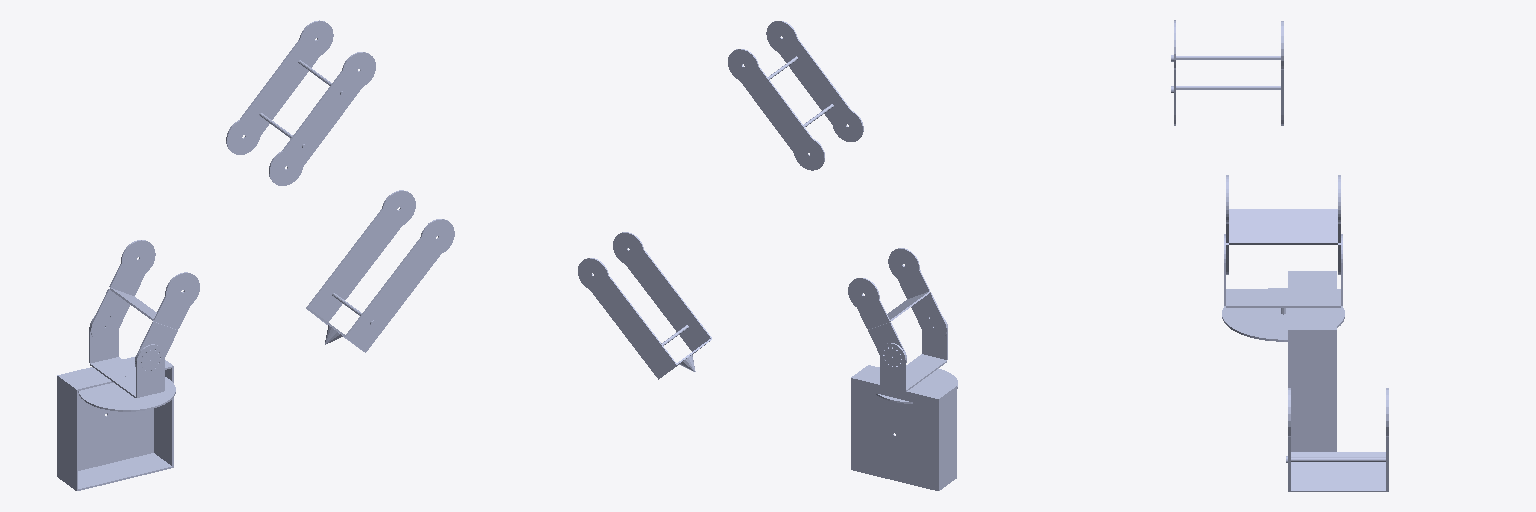
The robot description file, URDF, robot "tehreem":
<?xml version="1.0" encoding="utf-8"?>
<!-- This URDF was automatically created by SolidWorks to URDF Exporter! Originally created by [author] ([email redacted]) 
     Commit Version: 1.6.0-1-g15f4949  Build Version: 1.6.7594.29634
     For more information, please see http://wiki.ros.org/sw_urdf_exporter -->
<robot
  name="tehreem">
  <link
    name="base_link">
    <inertial>
      <origin
        xyz="-6.24500451351651E-17 -1.49186218934005E-16 0.0290820382955607"
        rpy="0 0 0" />
      <mass
        value="0.0665348672587713" />
      <inertia
        ixx="0.000134459472909859"
        ixy="1.14603188715535E-19"
        ixz="-2.00386528210075E-20"
        iyy="0.00013445947290986"
        iyz="1.91287847184748E-20"
        izz="0.000244427043067851" />
    </inertial>
    <visual>
      <origin
        xyz="0 0 0"
        rpy="0 0 0" />
      <geometry>
        <mesh
          filename="package://tehreem/meshes/base_link.STL" />
      </geometry>
      <material
        name="">
        <color
          rgba="0.792156862745098 0.819607843137255 0.933333333333333 1" />
      </material>
    </visual>
    <collision>
      <origin
        xyz="0 0 0"
        rpy="0 0 0" />
      <geometry>
        <mesh
          filename="package://tehreem/meshes/base_link.STL" />
      </geometry>
    </collision>
  </link>
  <link
    name="link1">
    <inertial>
      <origin
        xyz="0.00899945504963388 0.0675106811221554 1.38777878078145E-17"
        rpy="0 0 0" />
      <mass
        value="0.0542610787557387" />
      <inertia
        ixx="2.96311644478969E-05"
        ixy="-1.42050744888731E-06"
        ixz="2.42943233369902E-21"
        iyy="3.77959457351572E-05"
        iyz="-9.93260819216928E-22"
        izz="2.39681172828573E-05" />
    </inertial>
    <visual>
      <origin
        xyz="0 0 0"
        rpy="0 0 0" />
      <geometry>
        <mesh
          filename="package://tehreem/meshes/link1.STL" />
      </geometry>
      <material
        name="">
        <color
          rgba="0.792156862745098 0.819607843137255 0.933333333333333 1" />
      </material>
    </visual>
    <collision>
      <origin
        xyz="0 0 0"
        rpy="0 0 0" />
      <geometry>
        <mesh
          filename="package://tehreem/meshes/link1.STL" />
      </geometry>
    </collision>
  </link>
  <joint
    name="joint1"
    type="revolute">
    <origin
      xyz="0 0 0.04"
      rpy="1.5708 0 0" />
    <parent
      link="base_link" />
    <child
      link="link1" />
    <axis
      xyz="0 1 0" />
    <limit
      lower="-1.57"
      upper="1.57"
      effort="10"
      velocity="3.14" />
  </joint>
  <link
    name="link2">
    <inertial>
      <origin
        xyz="3.10255300330076E-06 0.065 -0.0462967591551163"
        rpy="0 0 0" />
      <mass
        value="0.0264323022309454" />
      <inertia
        ixx="6.54085091736833E-05"
        ixy="-1.75759336555267E-20"
        ixz="6.41854689425108E-21"
        iyy="8.01926936084795E-06"
        iyz="-9.41965105811981E-21"
        izz="6.26480773704926E-05" />
    </inertial>
    <visual>
      <origin
        xyz="0 0 0"
        rpy="0 0 0" />
      <geometry>
        <mesh
          filename="package://tehreem/meshes/link2.STL" />
      </geometry>
      <material
        name="">
        <color
          rgba="0.792156862745098 0.819607843137255 0.933333333333333 1" />
      </material>
    </visual>
    <collision>
      <origin
        xyz="0 0 0"
        rpy="0 0 0" />
      <geometry>
        <mesh
          filename="package://tehreem/meshes/link2.STL" />
      </geometry>
    </collision>
  </link>
  <joint
    name="joint2"
    type="revolute">
    <origin
      xyz="0.040997 0.14802 0.0465"
      rpy="0 0 -0.38088" />
    <parent
      link="link1" />
    <child
      link="link2" />
    <axis
      xyz="0 0 -1" />
    <limit
      lower="-1.57"
      upper="1.57"
      effort="10"
      velocity="3.14" />
  </joint>
  <link
    name="link3">
    <inertial>
      <origin
        xyz="-5.55111512312578E-17 0.0841958360378099 0.0425766525613882"
        rpy="0 0 0" />
      <mass
        value="0.0320911265483328" />
      <inertia
        ixx="0.000136456819110822"
        ixy="6.43745039913268E-20"
        ixz="-2.13748363582812E-20"
        iyy="4.68765596817674E-05"
        iyz="5.32902400775416E-20"
        izz="9.57155265710446E-05" />
    </inertial>
    <visual>
      <origin
        xyz="0 0 0"
        rpy="0 0 0" />
      <geometry>
        <mesh
          filename="package://tehreem/meshes/link3.STL" />
      </geometry>
      <material
        name="">
        <color
          rgba="0.792156862745098 0.819607843137255 0.933333333333333 1" />
      </material>
    </visual>
    <collision>
      <origin
        xyz="0 0 0"
        rpy="0 0 0" />
      <geometry>
        <mesh
          filename="package://tehreem/meshes/link3.STL" />
      </geometry>
    </collision>
  </link>
  <joint
    name="joint3"
    type="revolute">
    <origin
      xyz="0 0.13 -0.091"
      rpy="0 0 -1.5782" />
    <parent
      link="link2" />
    <child
      link="link3" />
    <axis
      xyz="0 0 1" />
    <limit
      lower="-1.57"
      upper="1.57"
      effort="10"
      velocity="3.14" />
  </joint>
</robot>

--- What the picture shows (computed from the rendered views, not written in the file) ---
3 views of the same robot in one strip: view 1: azimuth 30°, elevation 25°; view 2: azimuth 150°, elevation 25°; view 3: azimuth 270°, elevation 25° (orthographic).
Robot: tehreem — 4 links, 3 joints (3 revolute); root link base_link; default pose: every joint at zero.
Visible links, largest first — view 1: link1, base_link, link2, link3; view 2: base_link, link1, link2, link3; view 3: link1, base_link, link3, link2.
Link boxes in pixels (x1,y1,x2,y2): link1: (78, 240, 199, 411); base_link: (57, 356, 173, 490); link2: (226, 20, 375, 185); link3: (306, 190, 454, 352); base_link: (851, 365, 956, 490); link1: (848, 248, 957, 403); link2: (728, 21, 863, 170); link3: (578, 232, 711, 379); link1: (1222, 175, 1344, 341); base_link: (1288, 271, 1336, 451); link3: (1286, 388, 1388, 491); link2: (1171, 20, 1283, 125).
Size in the robot's own frame: 0.4668 by 0.184 by 0.4883 metres.
4 mesh visuals loaded from 4 distinct referenced files (4 binary STL).
